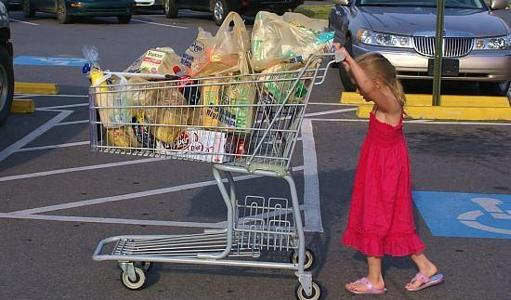person: (330, 43, 441, 296)
